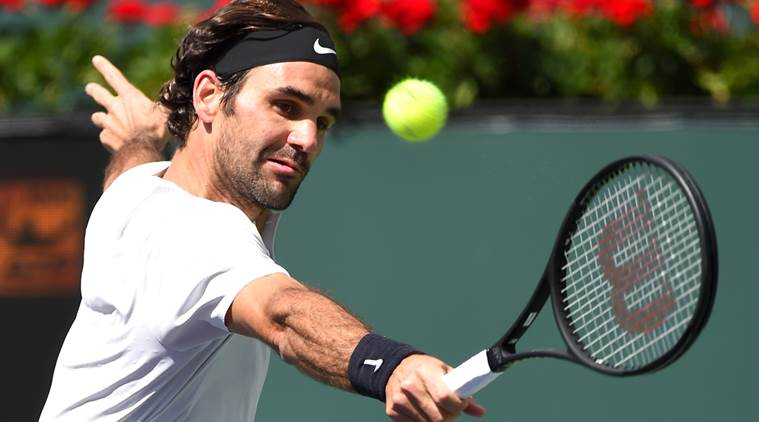aim: (380, 76, 449, 145)
